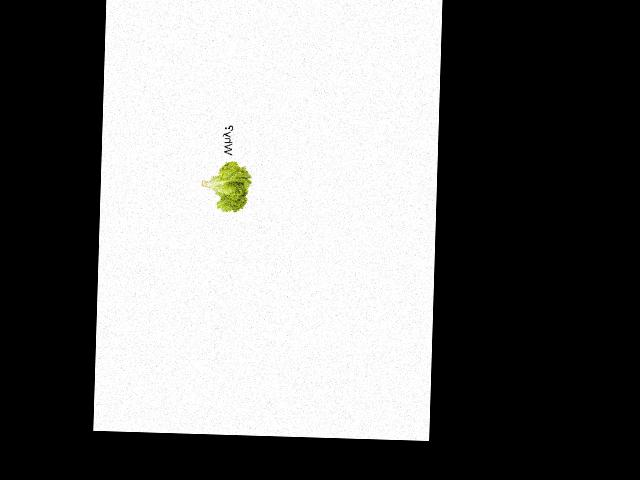lettuce: (199, 155, 252, 214)
